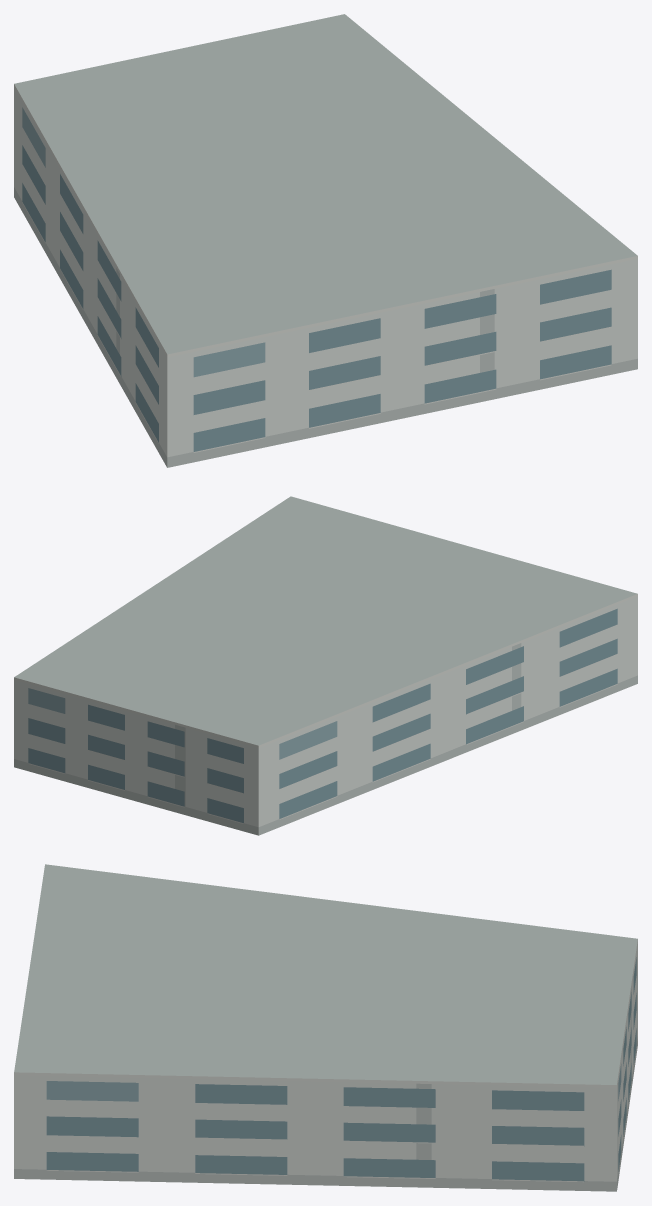
Rendered from survey-upis-32606708.glb.
3 views of the same model, one above another, from view 1: azimuth 30°, elevation 25°; view 2: azimuth 150°, elevation 25°; view 3: azimuth 270°, elevation 25° (orthographic). The views are drawn at different scales.
Parts seen in each view (by area): view 1: survey-upis-32606708.tmp; view 2: survey-upis-32606708.tmp; view 3: survey-upis-32606708.tmp.
Part boxes in pixels (x1,y1,x2,y2): survey-upis-32606708.tmp: (14,14,637,467); survey-upis-32606708.tmp: (14,496,637,835); survey-upis-32606708.tmp: (14,864,637,1191).
Bounding box in the file's own units: 40.7 × 9.15 × 48.58.
